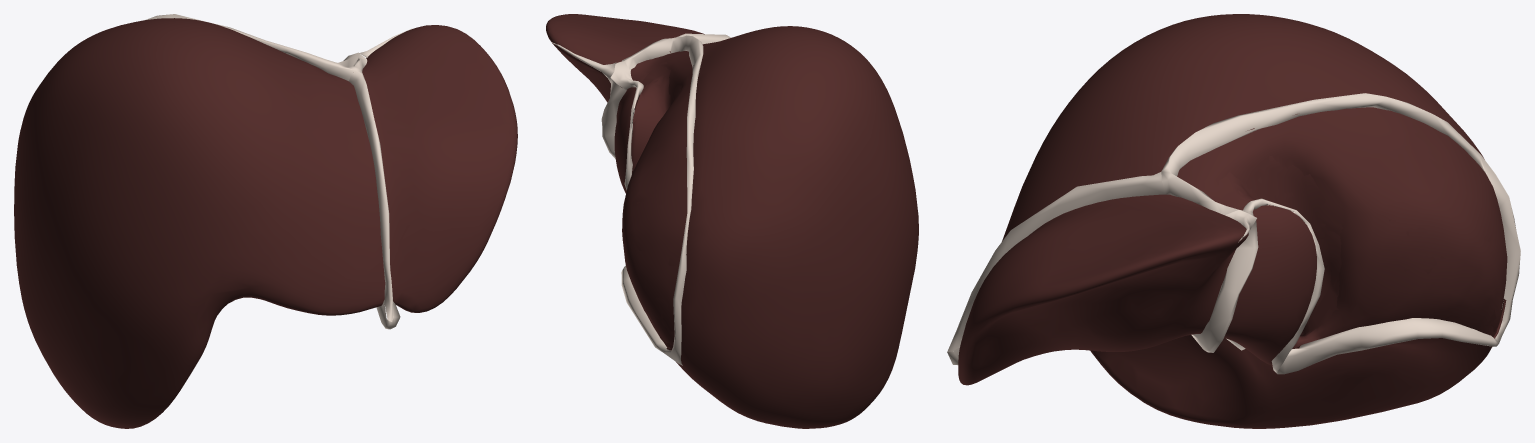
File: figado.glb
3 renders of one model, left to right at view 1: azimuth 30°, elevation 25°; view 2: azimuth 150°, elevation 25°; view 3: azimuth 270°, elevation 25°, orthographic. The views are drawn at different scales.
Visible parts, largest first — view 1: VH_M_liver_capsule, VH_M_falciform_ligament, VH_M_coronary_ligament_of_liver; view 2: VH_M_liver_capsule, VH_M_bare_area_of_liver, VH_M_coronary_ligament_of_liver, VH_M_right_posterosuperior_segment, VH_M_caudate_lobe_of_liver, VH_M_ligamentum_venosum, VH_M_diaphragmatic_surface, VH_M_triangular_ligament_of_liver; view 3: VH_M_liver_capsule, VH_M_bare_area_of_liver, VH_M_coronary_ligament_of_liver, VH_M_caudate_lobe_of_liver, VH_M_falciform_ligament, VH_M_right_posterosuperior_segment, VH_M_ligamentum_venosum, VH_M_diaphragmatic_surface.
Boxes of the visible parts, bbox=[...] form: VH_M_liver_capsule: bbox=[14, 18, 517, 428]; VH_M_falciform_ligament: bbox=[349, 70, 393, 321]; VH_M_coronary_ligament_of_liver: bbox=[146, 14, 367, 81]; VH_M_liver_capsule: bbox=[546, 14, 918, 428]; VH_M_bare_area_of_liver: bbox=[622, 51, 692, 347]; VH_M_coronary_ligament_of_liver: bbox=[610, 35, 703, 365]; VH_M_right_posterosuperior_segment: bbox=[630, 99, 688, 317]; VH_M_caudate_lobe_of_liver: bbox=[631, 53, 688, 162]; VH_M_ligamentum_venosum: bbox=[601, 78, 626, 158]; VH_M_diaphragmatic_surface: bbox=[631, 76, 679, 324]; VH_M_triangular_ligament_of_liver: bbox=[551, 42, 616, 82]; VH_M_liver_capsule: bbox=[958, 14, 1506, 428]; VH_M_bare_area_of_liver: bbox=[1180, 107, 1507, 344]; VH_M_coronary_ligament_of_liver: bbox=[1161, 93, 1520, 374]; VH_M_caudate_lobe_of_liver: bbox=[1186, 144, 1350, 348]; VH_M_falciform_ligament: bbox=[947, 172, 1165, 351]; VH_M_right_posterosuperior_segment: bbox=[1334, 107, 1506, 318]; VH_M_ligamentum_venosum: bbox=[1191, 220, 1258, 352]; VH_M_diaphragmatic_surface: bbox=[1233, 158, 1496, 345].
Size of the model in its own units: 1.17 by 1.06 by 1.23.
